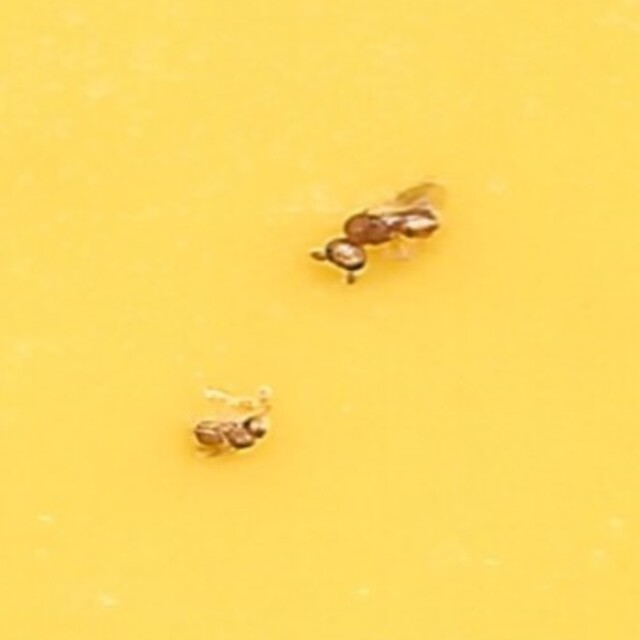Hymenoptera: (309, 177, 452, 286), (188, 387, 277, 463)
